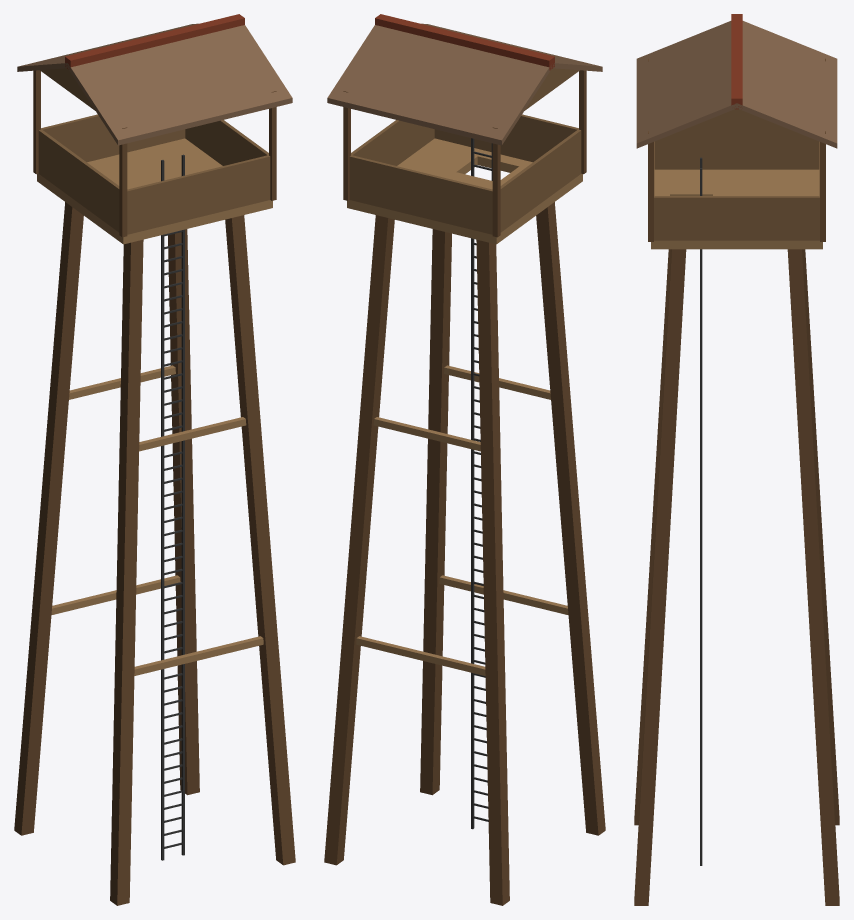
Rendered from torre_vigia_madeira_a.glb.
3 renders of one model, left to right at view 1: azimuth 30°, elevation 25°; view 2: azimuth 150°, elevation 25°; view 3: azimuth 270°, elevation 25°, orthographic.
Parts seen in each view (by area): view 1: torre_vigia_madeira_a; view 2: torre_vigia_madeira_a; view 3: torre_vigia_madeira_a.
Part boxes in pixels (x1=…): torre_vigia_madeira_a: x1=14, y1=14, x2=295, y2=905; torre_vigia_madeira_a: x1=324, y1=14, x2=605, y2=905; torre_vigia_madeira_a: x1=634, y1=14, x2=839, y2=905.
Size of the model in its own units: 4.3 by 18.62 by 4.3.
